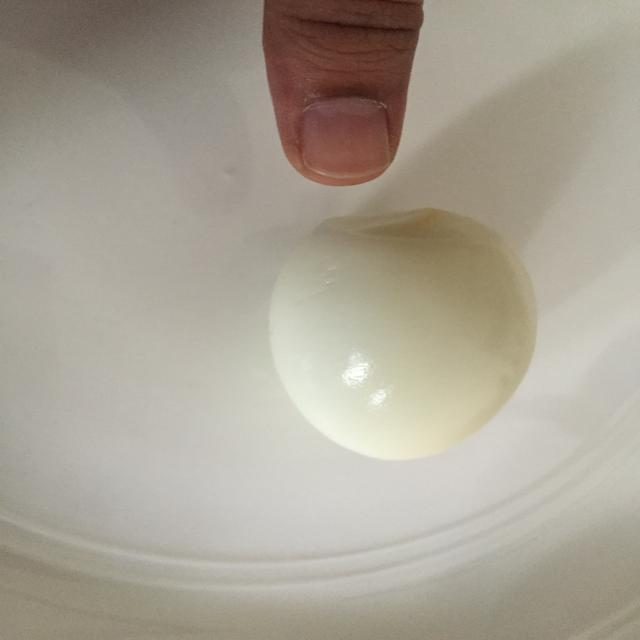Egg: (255, 204, 564, 481)
Finger: (245, 2, 454, 190)
